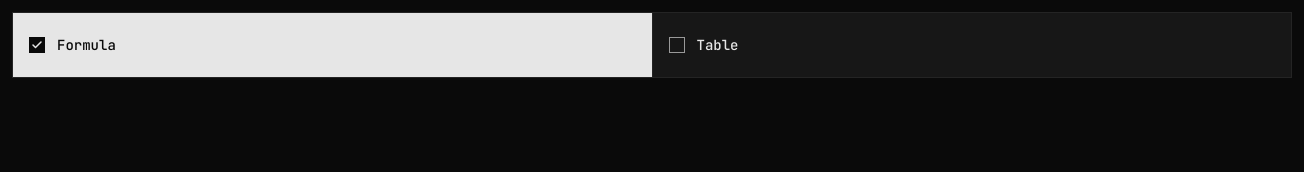
Test: configuration controls › changes the selected option and exposes radio state
The width and height of the screenshot is (1304, 172).
Click the radio button labelled "Table" at coordinates (718, 45), box [652, 13, 1291, 77]
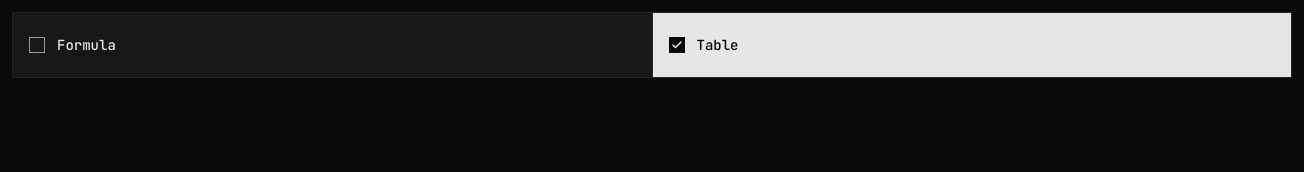
Result: the radio button labelled "Table" is checked at [652, 13, 1291, 77]
